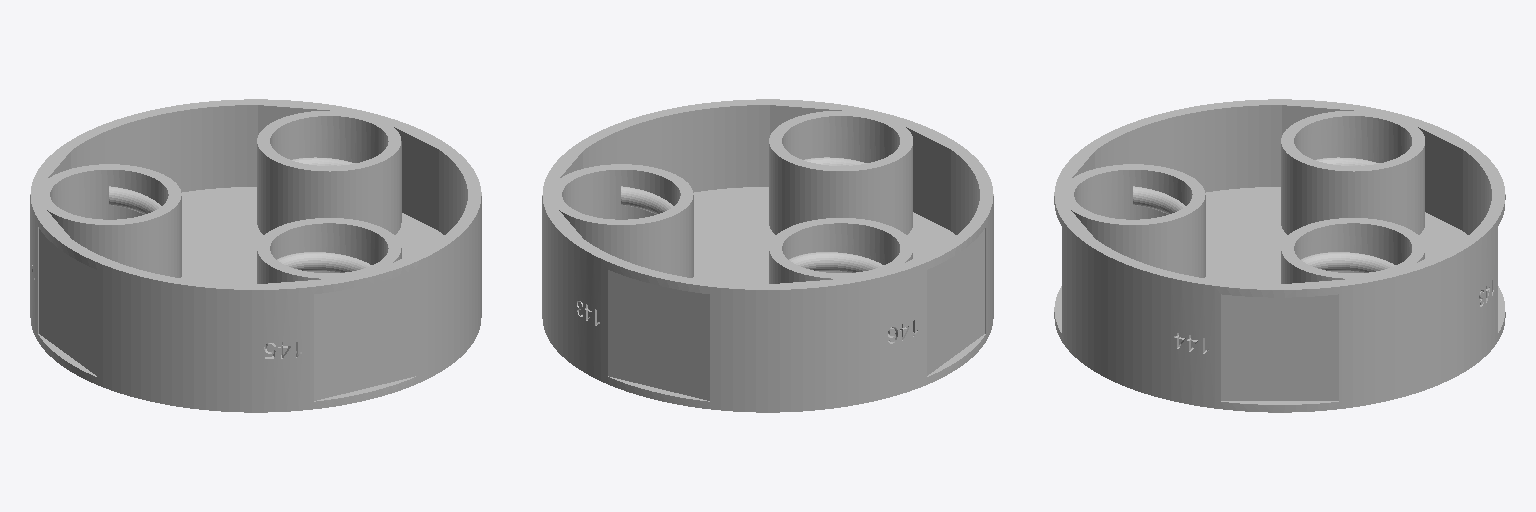
The model's file is stool_seat.obj.
The picture shows the model from 3 angles: view 1: azimuth 30°, elevation 25°; view 2: azimuth 150°, elevation 25°; view 3: azimuth 270°, elevation 25°; orthographic projection.
Visible parts, largest first — view 1: stool_seat_v17, stool_seat_v17.003, stool_seat_v17.005; view 2: stool_seat_v17, stool_seat_v17.001, stool_seat_v17.005; view 3: stool_seat_v17, stool_seat_v17.002.
Boxes of the visible parts, box(x1,y1,x2,y2) form: stool_seat_v17: box(30, 99, 481, 412); stool_seat_v17.003: box(314, 270, 415, 401); stool_seat_v17.005: box(38, 227, 96, 376); stool_seat_v17: box(542, 99, 993, 412); stool_seat_v17.001: box(608, 270, 709, 401); stool_seat_v17.005: box(927, 228, 985, 376); stool_seat_v17: box(1054, 99, 1505, 412); stool_seat_v17.002: box(1221, 294, 1338, 401).
Bounding box in the file's own units: 0.1 × 0.03 × 0.1.